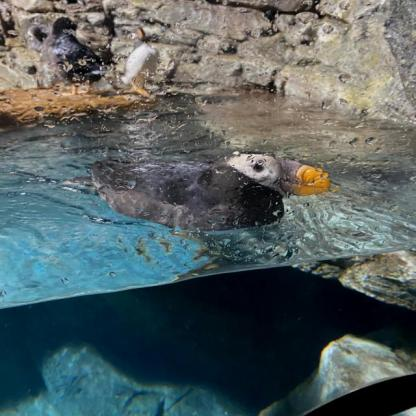puffin: (63, 151, 332, 231), (41, 18, 113, 92), (27, 24, 80, 88), (121, 27, 158, 96)
